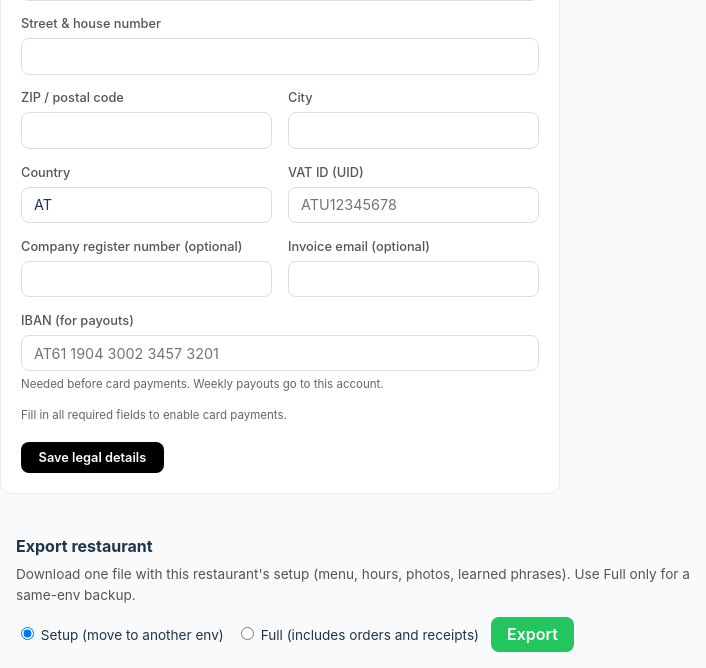
Test: RestaurantDetailPage — restaurant bundle export › shows export controls and a PII warning for the Full profile
This screenshot has width=706, height=668.
(page scrolled)
Expected: the heading "Export restaurant" is shown, [16,536,153,556]
Click the radio button labelled "Full (includes orders and receipts)" at (247, 633), box [241,627,254,640]
(page scrolled)
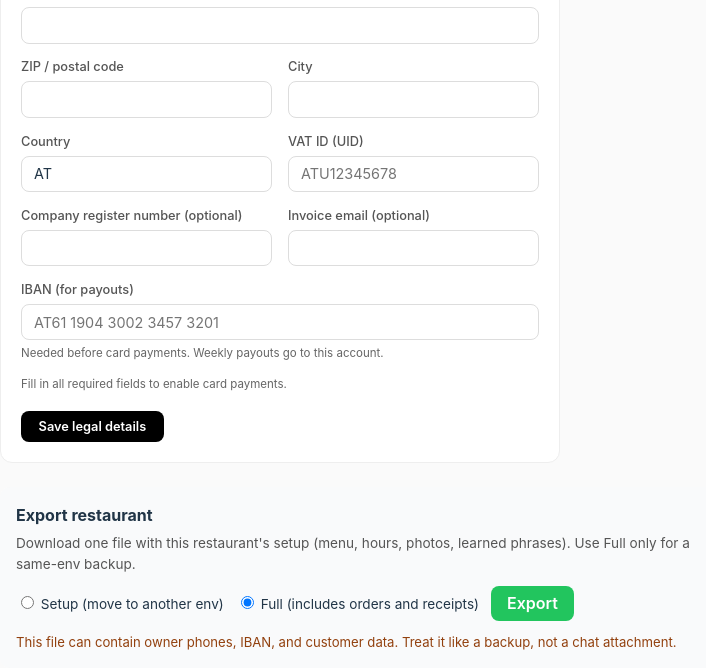
Now the text "customer data" is shown, box [16,634,676,650]
